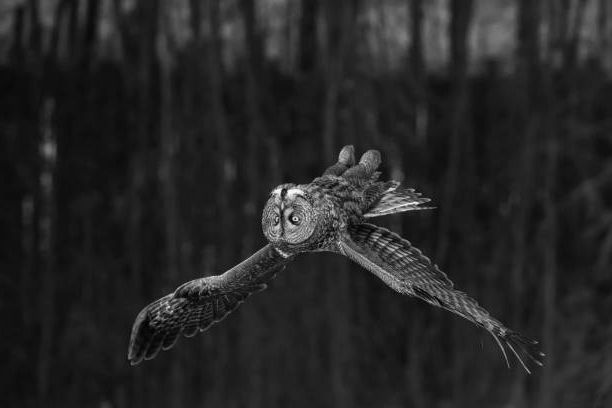Bird: (123, 143, 551, 376)
